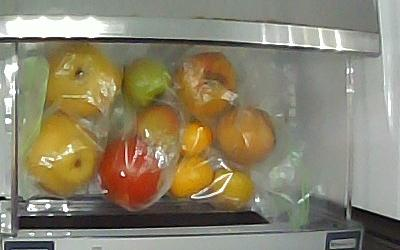peach_vinyl: (176, 52, 235, 119), (218, 107, 275, 164)
pear_vinyl: (26, 118, 99, 195), (45, 43, 119, 118)
tangerine_vinyl: (213, 169, 255, 209), (170, 158, 213, 197), (180, 121, 212, 160)
tomato_vinyl: (100, 137, 167, 208), (124, 58, 171, 106), (136, 106, 179, 142)
